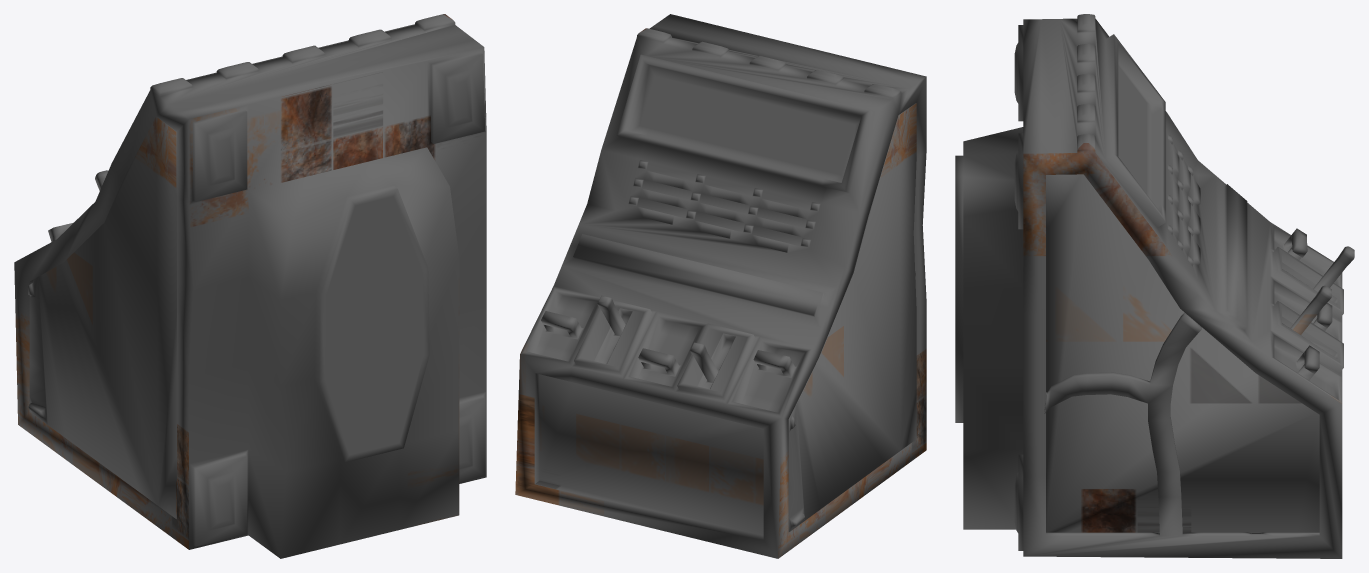
The model's file is Control_Box_2.FBX.
3 renders of one model, left to right at view 1: azimuth 30°, elevation 25°; view 2: azimuth 150°, elevation 25°; view 3: azimuth 270°, elevation 25°, orthographic. The views are drawn at different scales.
Parts seen in each view (by area): view 1: Box001; view 2: Box001; view 3: Box001.
Part boxes in pixels (x1,y1,x2,y2): Box001: [14, 14, 486, 558]; Box001: [515, 14, 926, 558]; Box001: [955, 14, 1354, 558].
Bounding box in the file's own units: 123 × 167 × 148.
